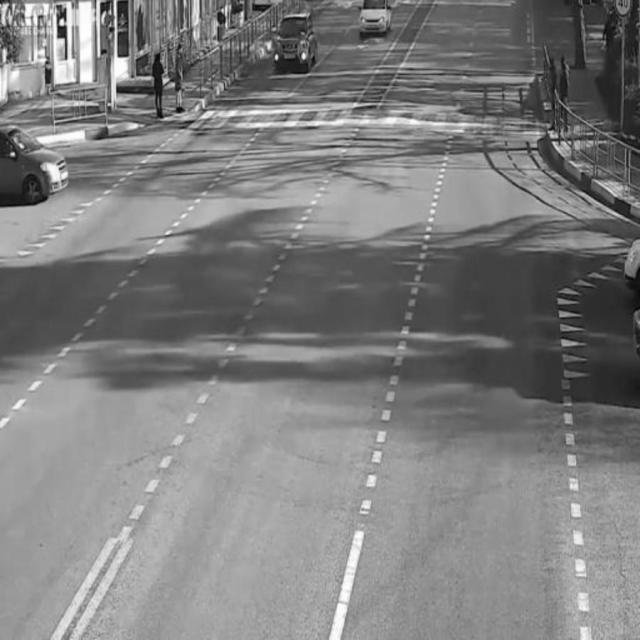person: (544, 49, 574, 131), (146, 39, 168, 120), (173, 38, 188, 114)
vehicle: (0, 127, 67, 198), (274, 12, 320, 76), (353, 1, 394, 46), (625, 231, 640, 311)
